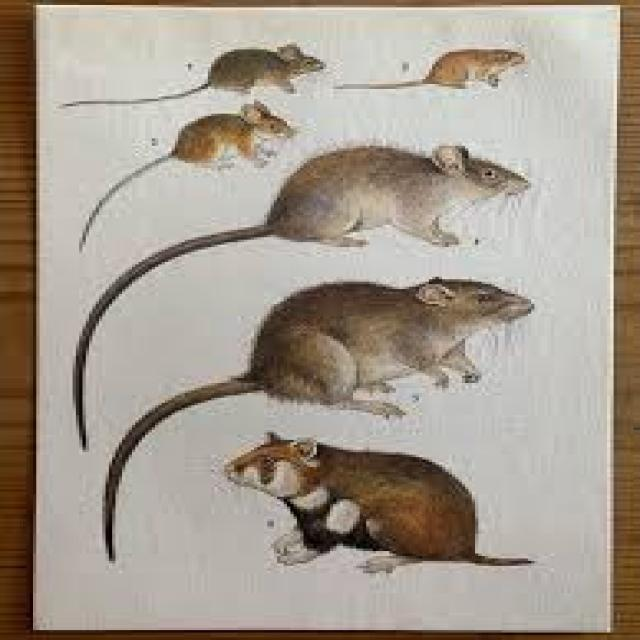Rat: (65, 13, 549, 640)
